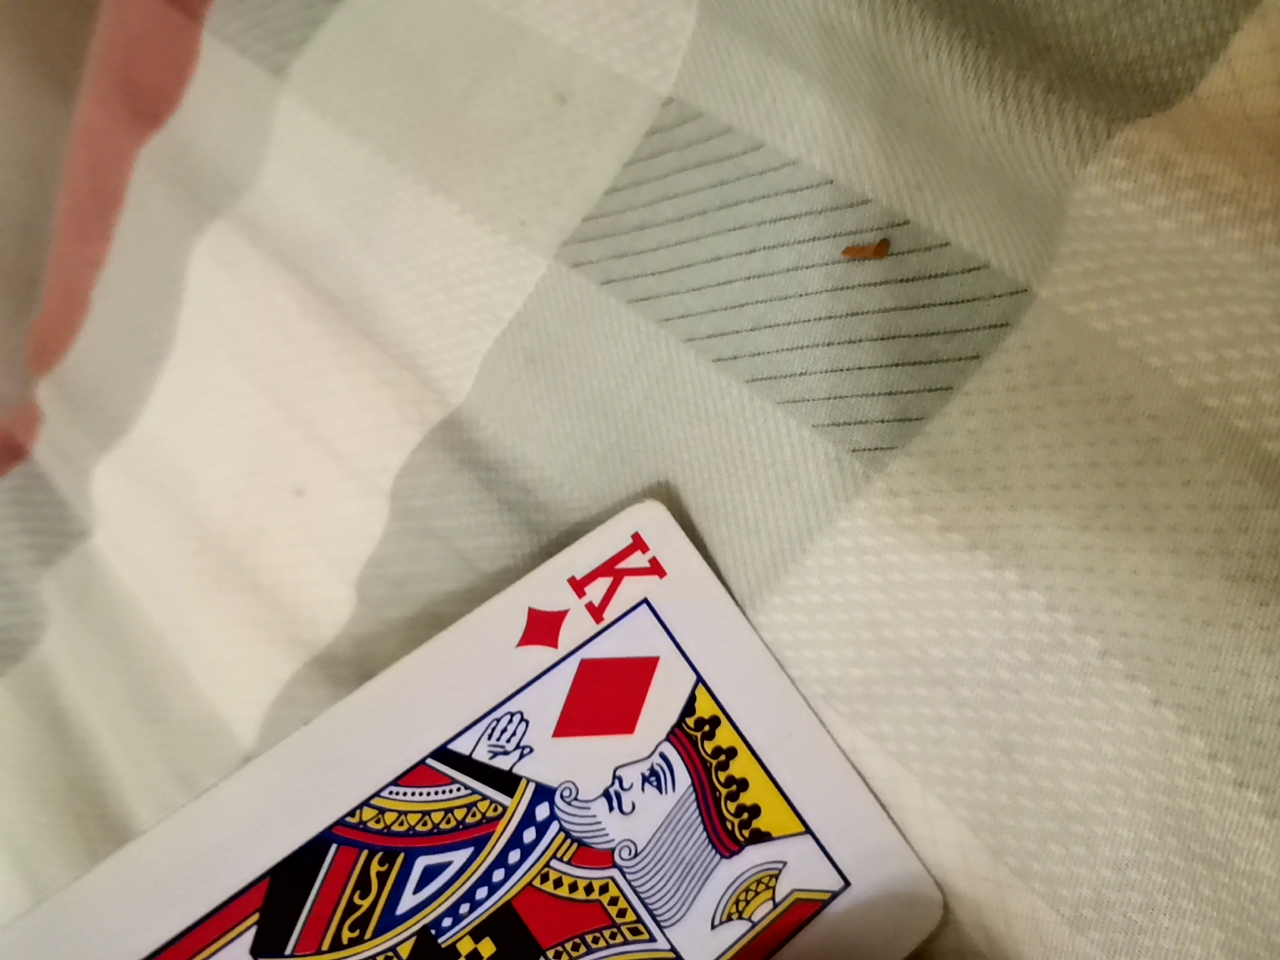fk k: (22, 508, 954, 959)
